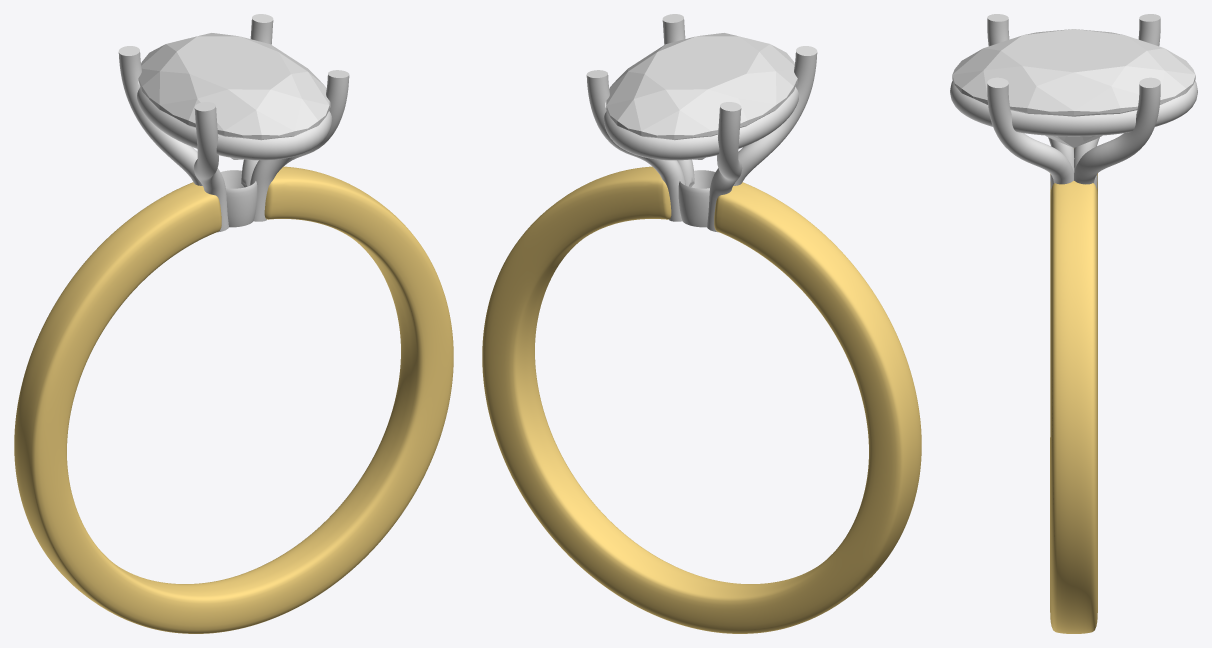
The model's file is DavidSoval.glb.
The picture shows the model from 3 angles, left to right: view 1: azimuth 30°, elevation 25°; view 2: azimuth 150°, elevation 25°; view 3: azimuth 270°, elevation 25°; orthographic projection.
Parts seen in each view (by area): view 1: YG BAND, DIA DAVID, PT HEAD; view 2: YG BAND, DIA DAVID, PT HEAD; view 3: YG BAND, DIA DAVID, PT HEAD.
Boxes of the visible parts, box(x1,y1,x2,y2) form: YG BAND: box(14, 166, 453, 633); DIA DAVID: box(138, 33, 329, 159); PT HEAD: box(118, 14, 349, 232); YG BAND: box(482, 166, 921, 633); DIA DAVID: box(606, 33, 797, 159); PT HEAD: box(586, 14, 817, 232); YG BAND: box(1050, 173, 1097, 633); DIA DAVID: box(952, 29, 1195, 147); PT HEAD: box(950, 14, 1197, 189).
Size of the model in its own units: 20.55 by 25.98 by 10.4.
